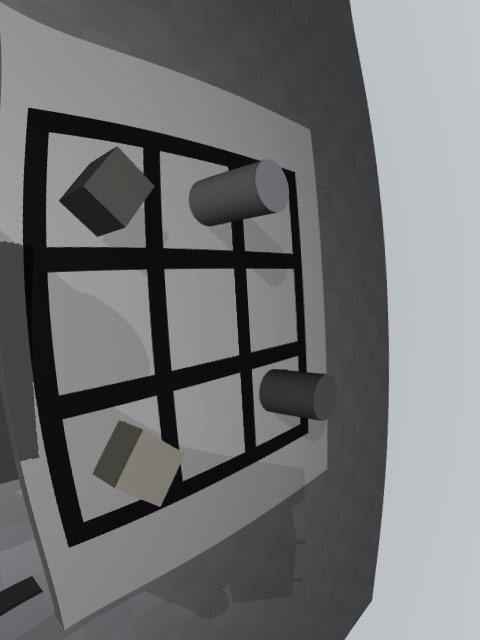can: (189, 160, 289, 226)
cube: (59, 146, 155, 236)
cylinder: (259, 369, 337, 421)
foam: (93, 420, 185, 507)
